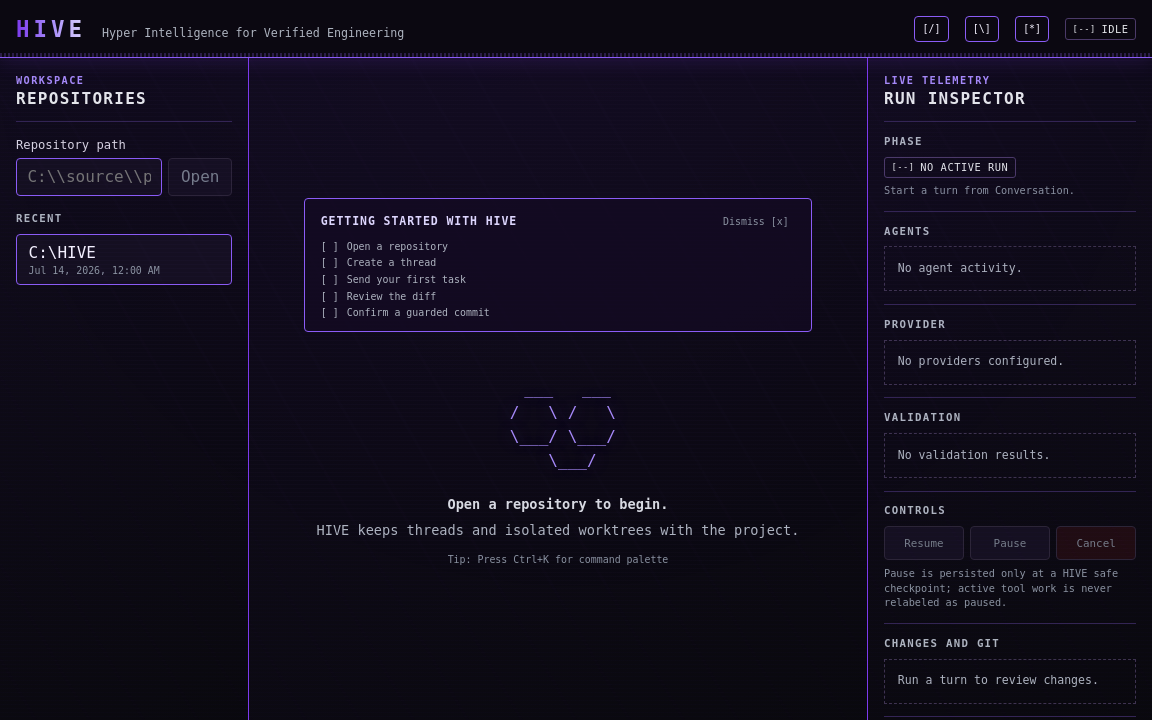
Test: HIVE desktop cockpit › traps focus in reusable dialogs, closes with Escape, hides background, and restores focus
Click the button "C:\\HIVE Jul 14, 2026, 12:00 AM".
click(124, 259)  # box [16, 234, 232, 284]
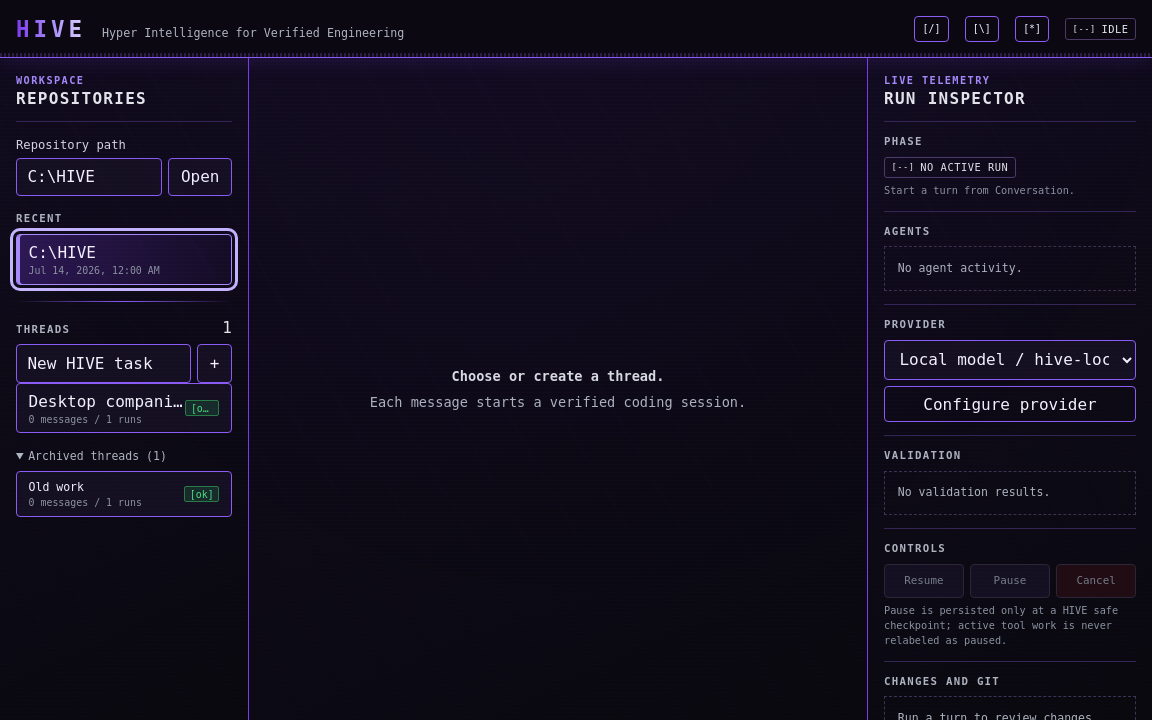
Result: the button "Desktop companion 0 messages / 1 runs [ok]" is shown
Click the button "Desktop companion 0 messages / 1 runs [ok]".
click(124, 408)  # box [16, 383, 232, 433]
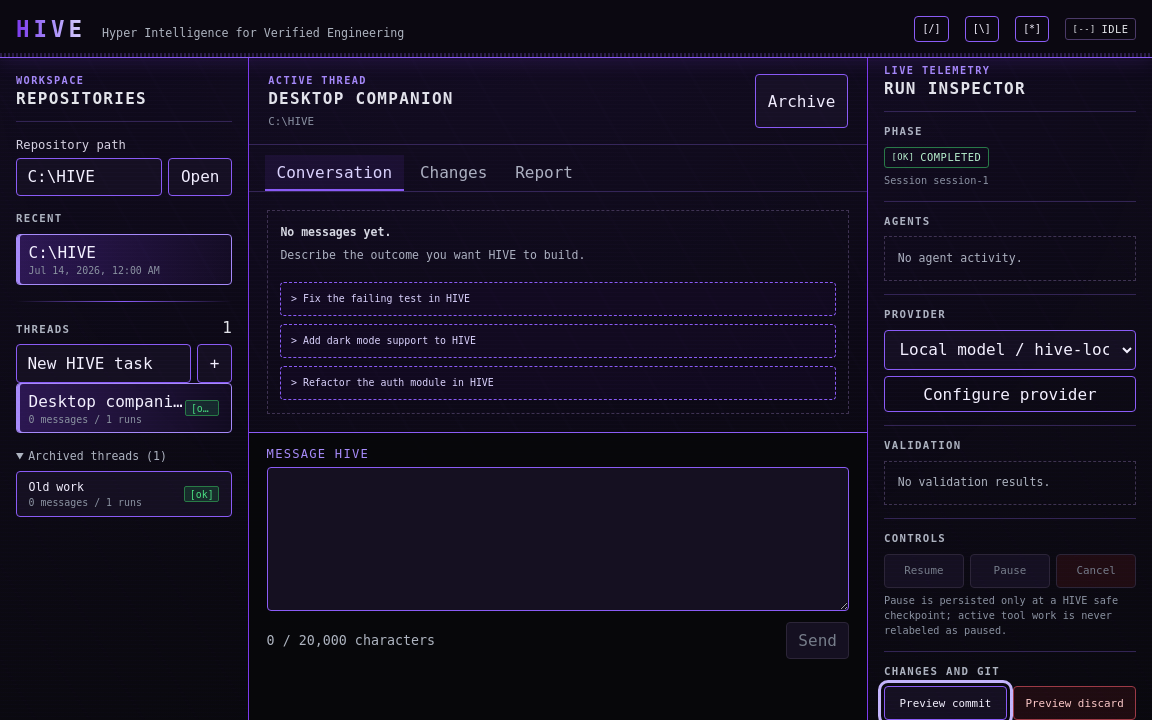
Press Enter
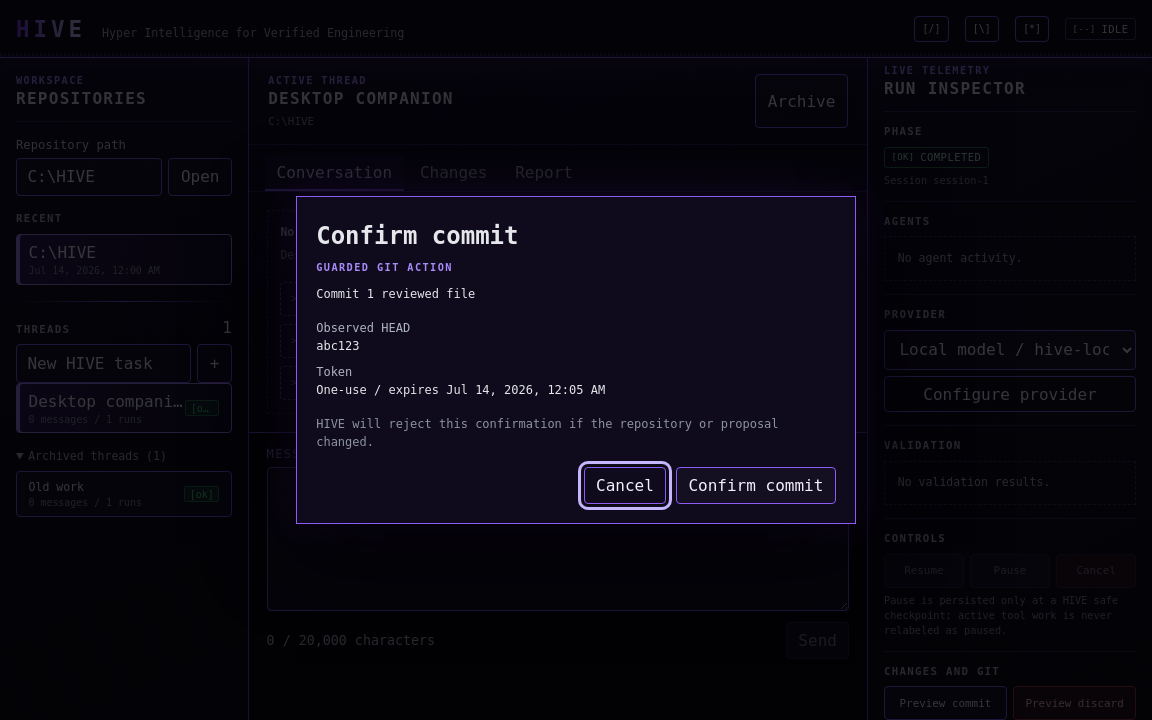
Type keys "{Shift>}{Tab}{/Shift}"
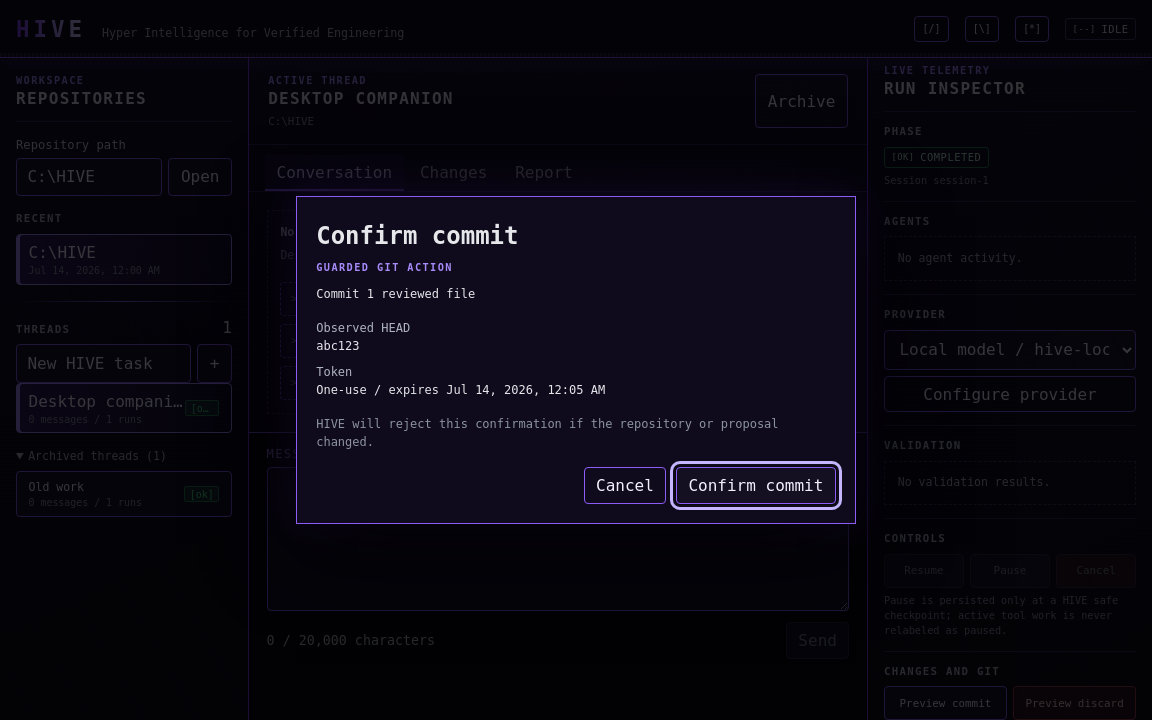
Press Tab
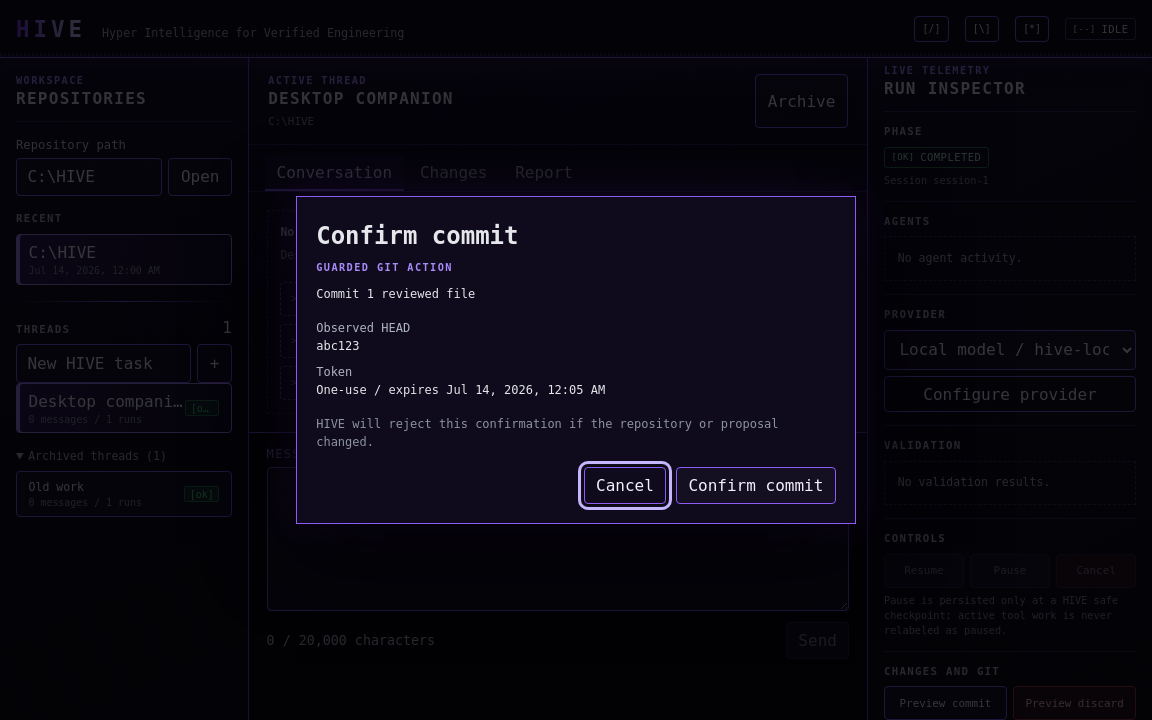
Result: the element with class "cockpit-grid" has attribute aria-hidden="true"
Press Escape
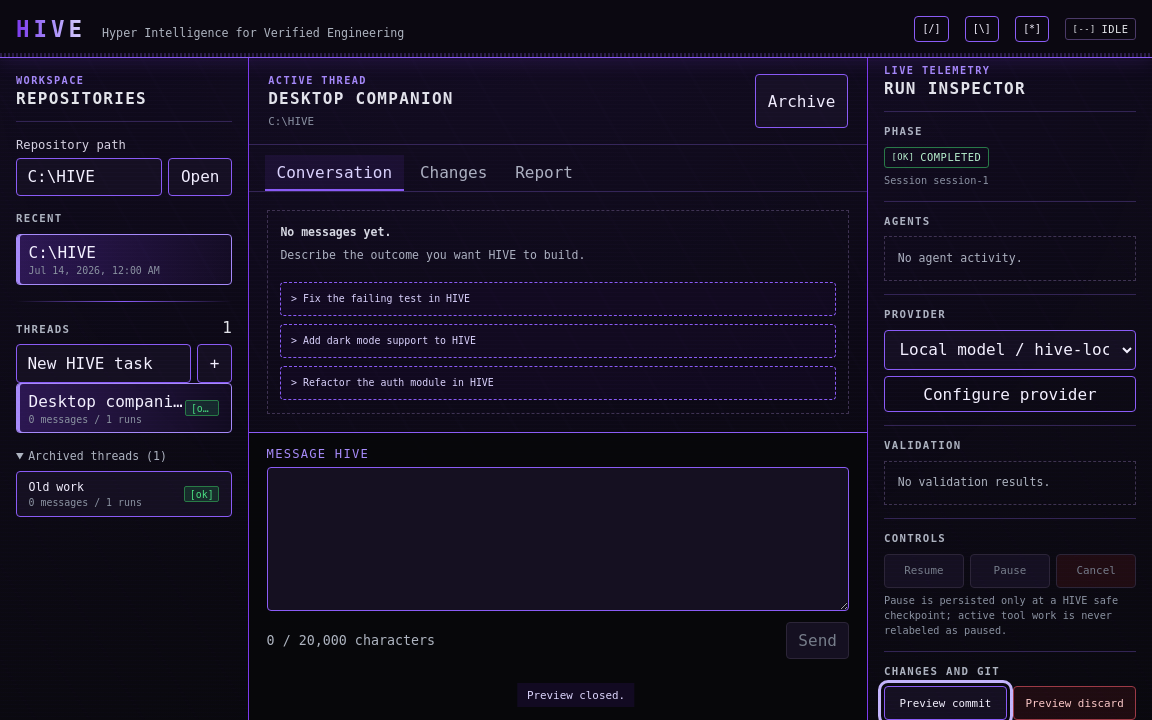
Result: the dialog is gone
